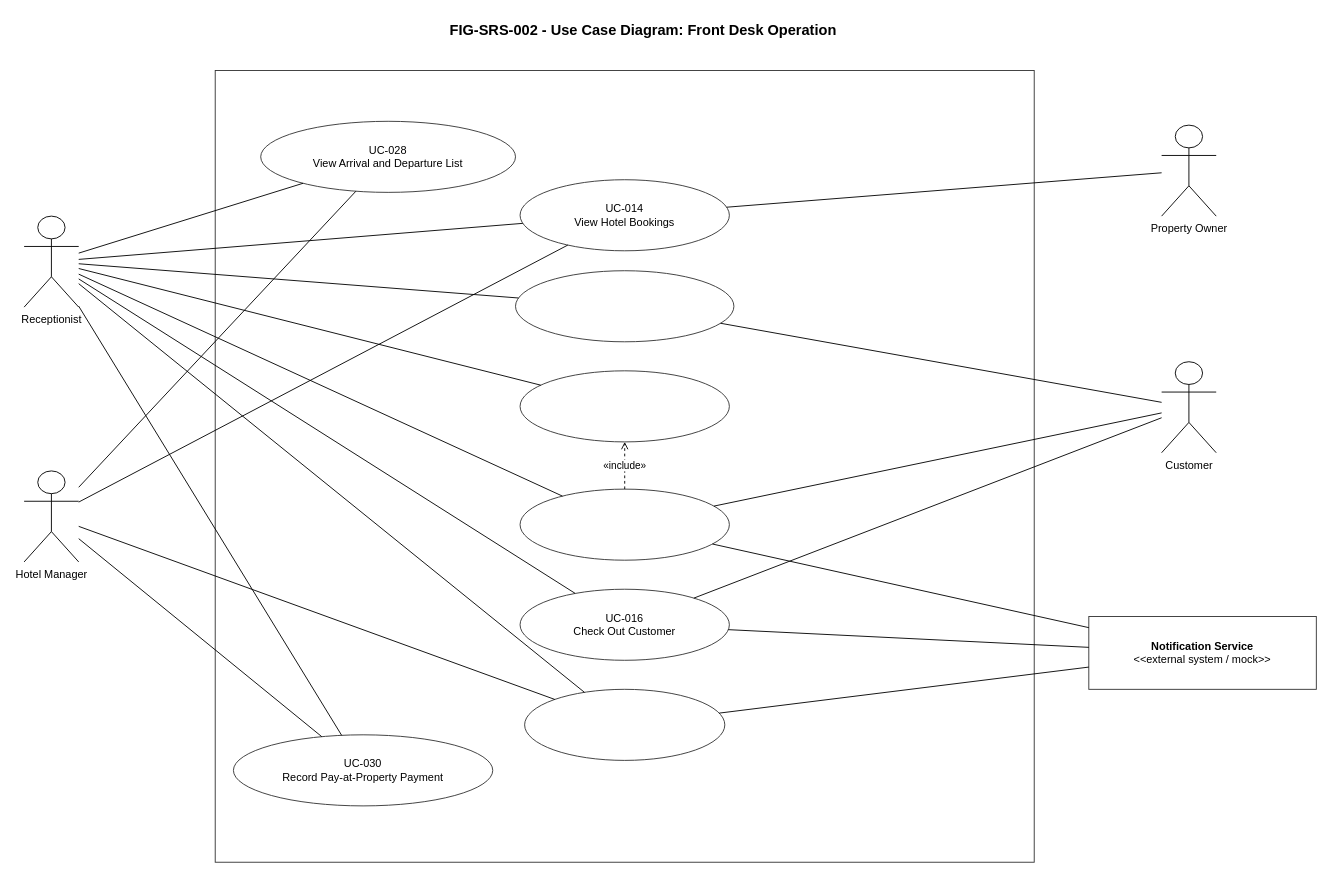
Some shapes in this 1332 by 878 pixel diagram are drawn without their labels. The shapes that lost their labels are listed below. From the top down, each one's box as (x1, y1, x2, y2) in pixels, then its label:
(515, 270, 734, 342): UC-031 Create Walk-in Booking
(519, 370, 729, 442): UC-029 Assign Physical Room
(214, 70, 1034, 862): Hotel Marketplace Management System
(519, 488, 729, 560): UC-015 Check In Customer
(524, 688, 725, 760): UC-017 Mark No-show
